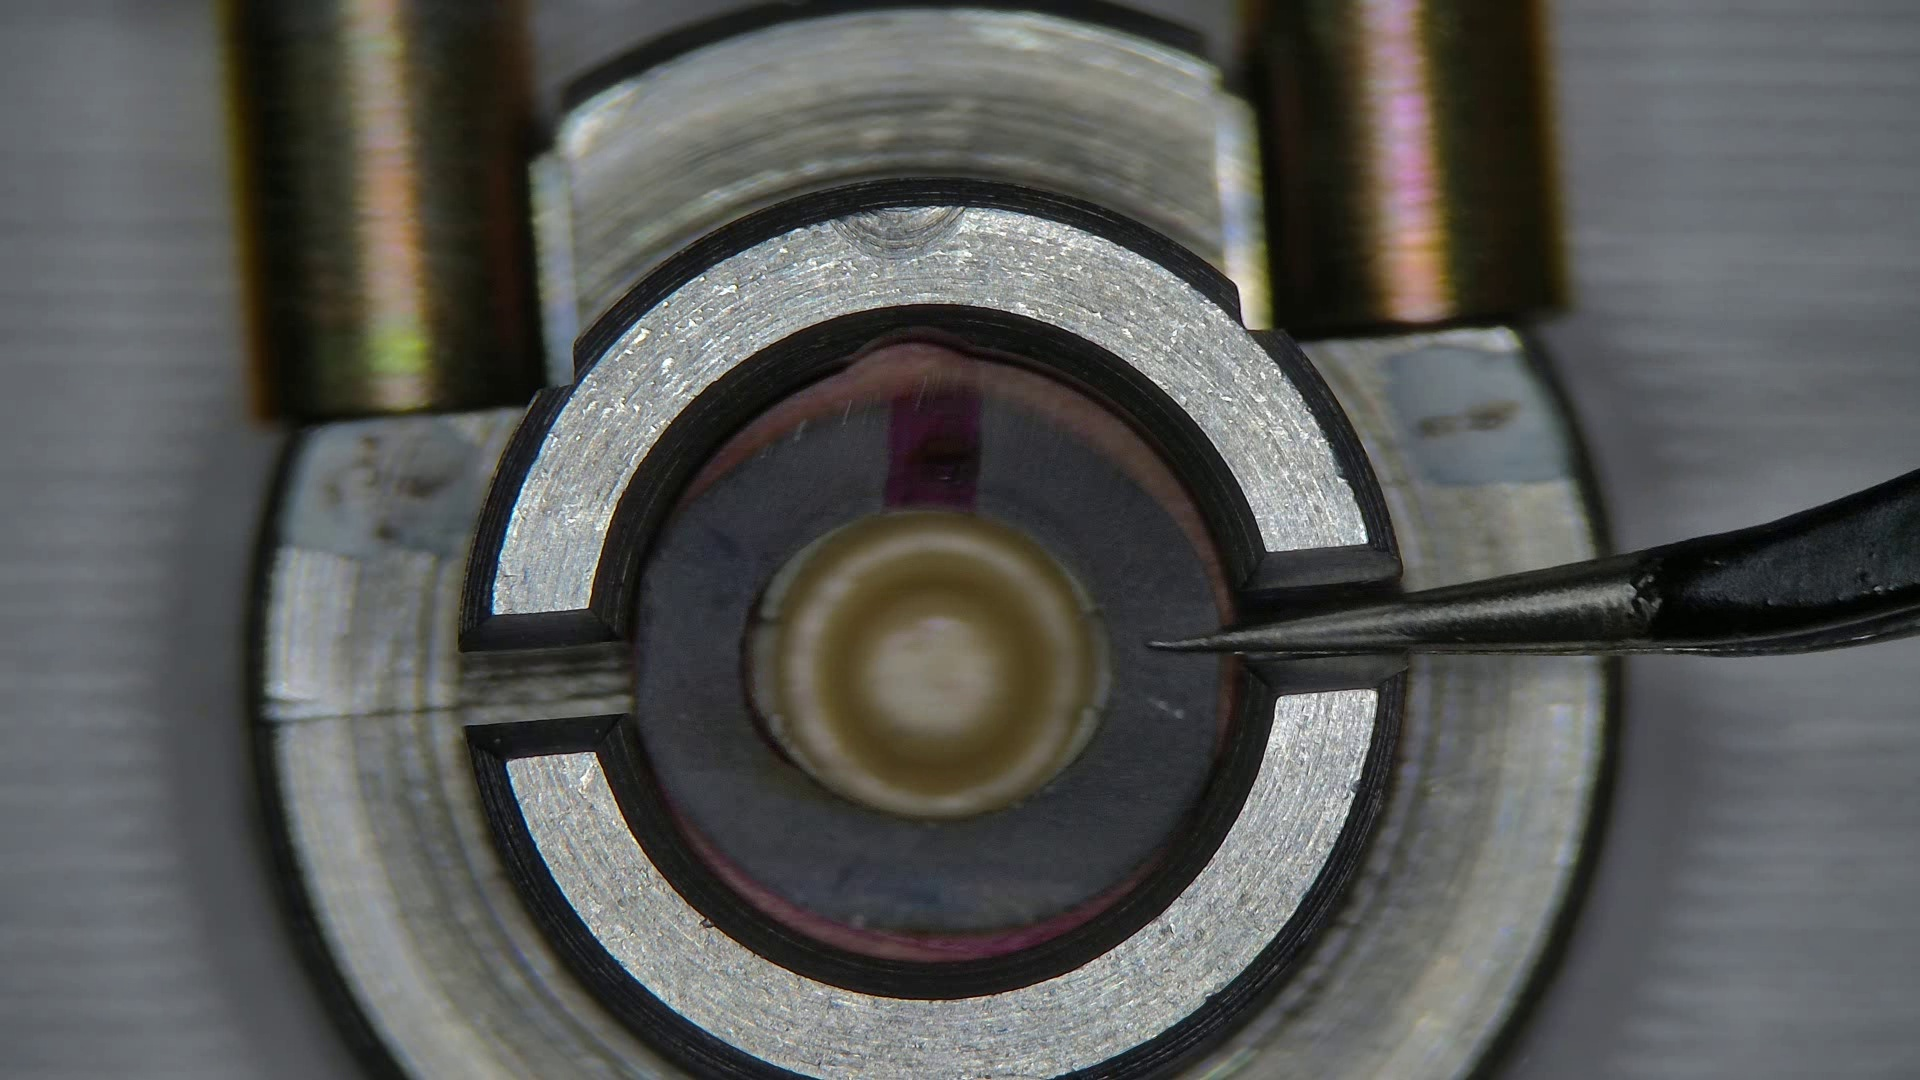GreyOring: (705, 342, 1211, 562), (684, 832, 1121, 964), (676, 820, 679, 825)
YellowOring: (633, 396, 1224, 932)
